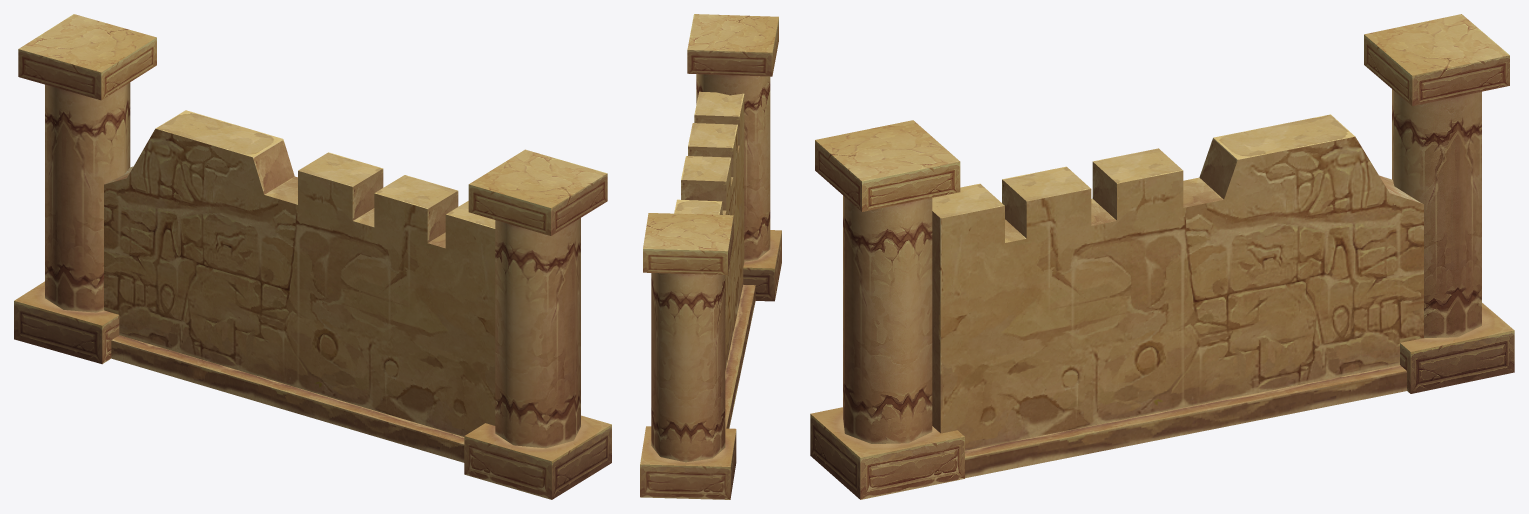
File: Area_14_35.fbx
3 renders of one model, left to right at view 1: azimuth 30°, elevation 25°; view 2: azimuth 150°, elevation 25°; view 3: azimuth 270°, elevation 25°, orthographic. The views are drawn at different scales.
Parts seen in each view (by area): view 1: Area_14_35; view 2: Area_14_35; view 3: Area_14_35.
Boxes of the visible parts, <box> form: Area_14_35: <box>14,14,611,499</box>; Area_14_35: <box>640,14,781,499</box>; Area_14_35: <box>810,14,1514,499</box>.
Bounding box in the file's own units: 476 × 409 × 826.
